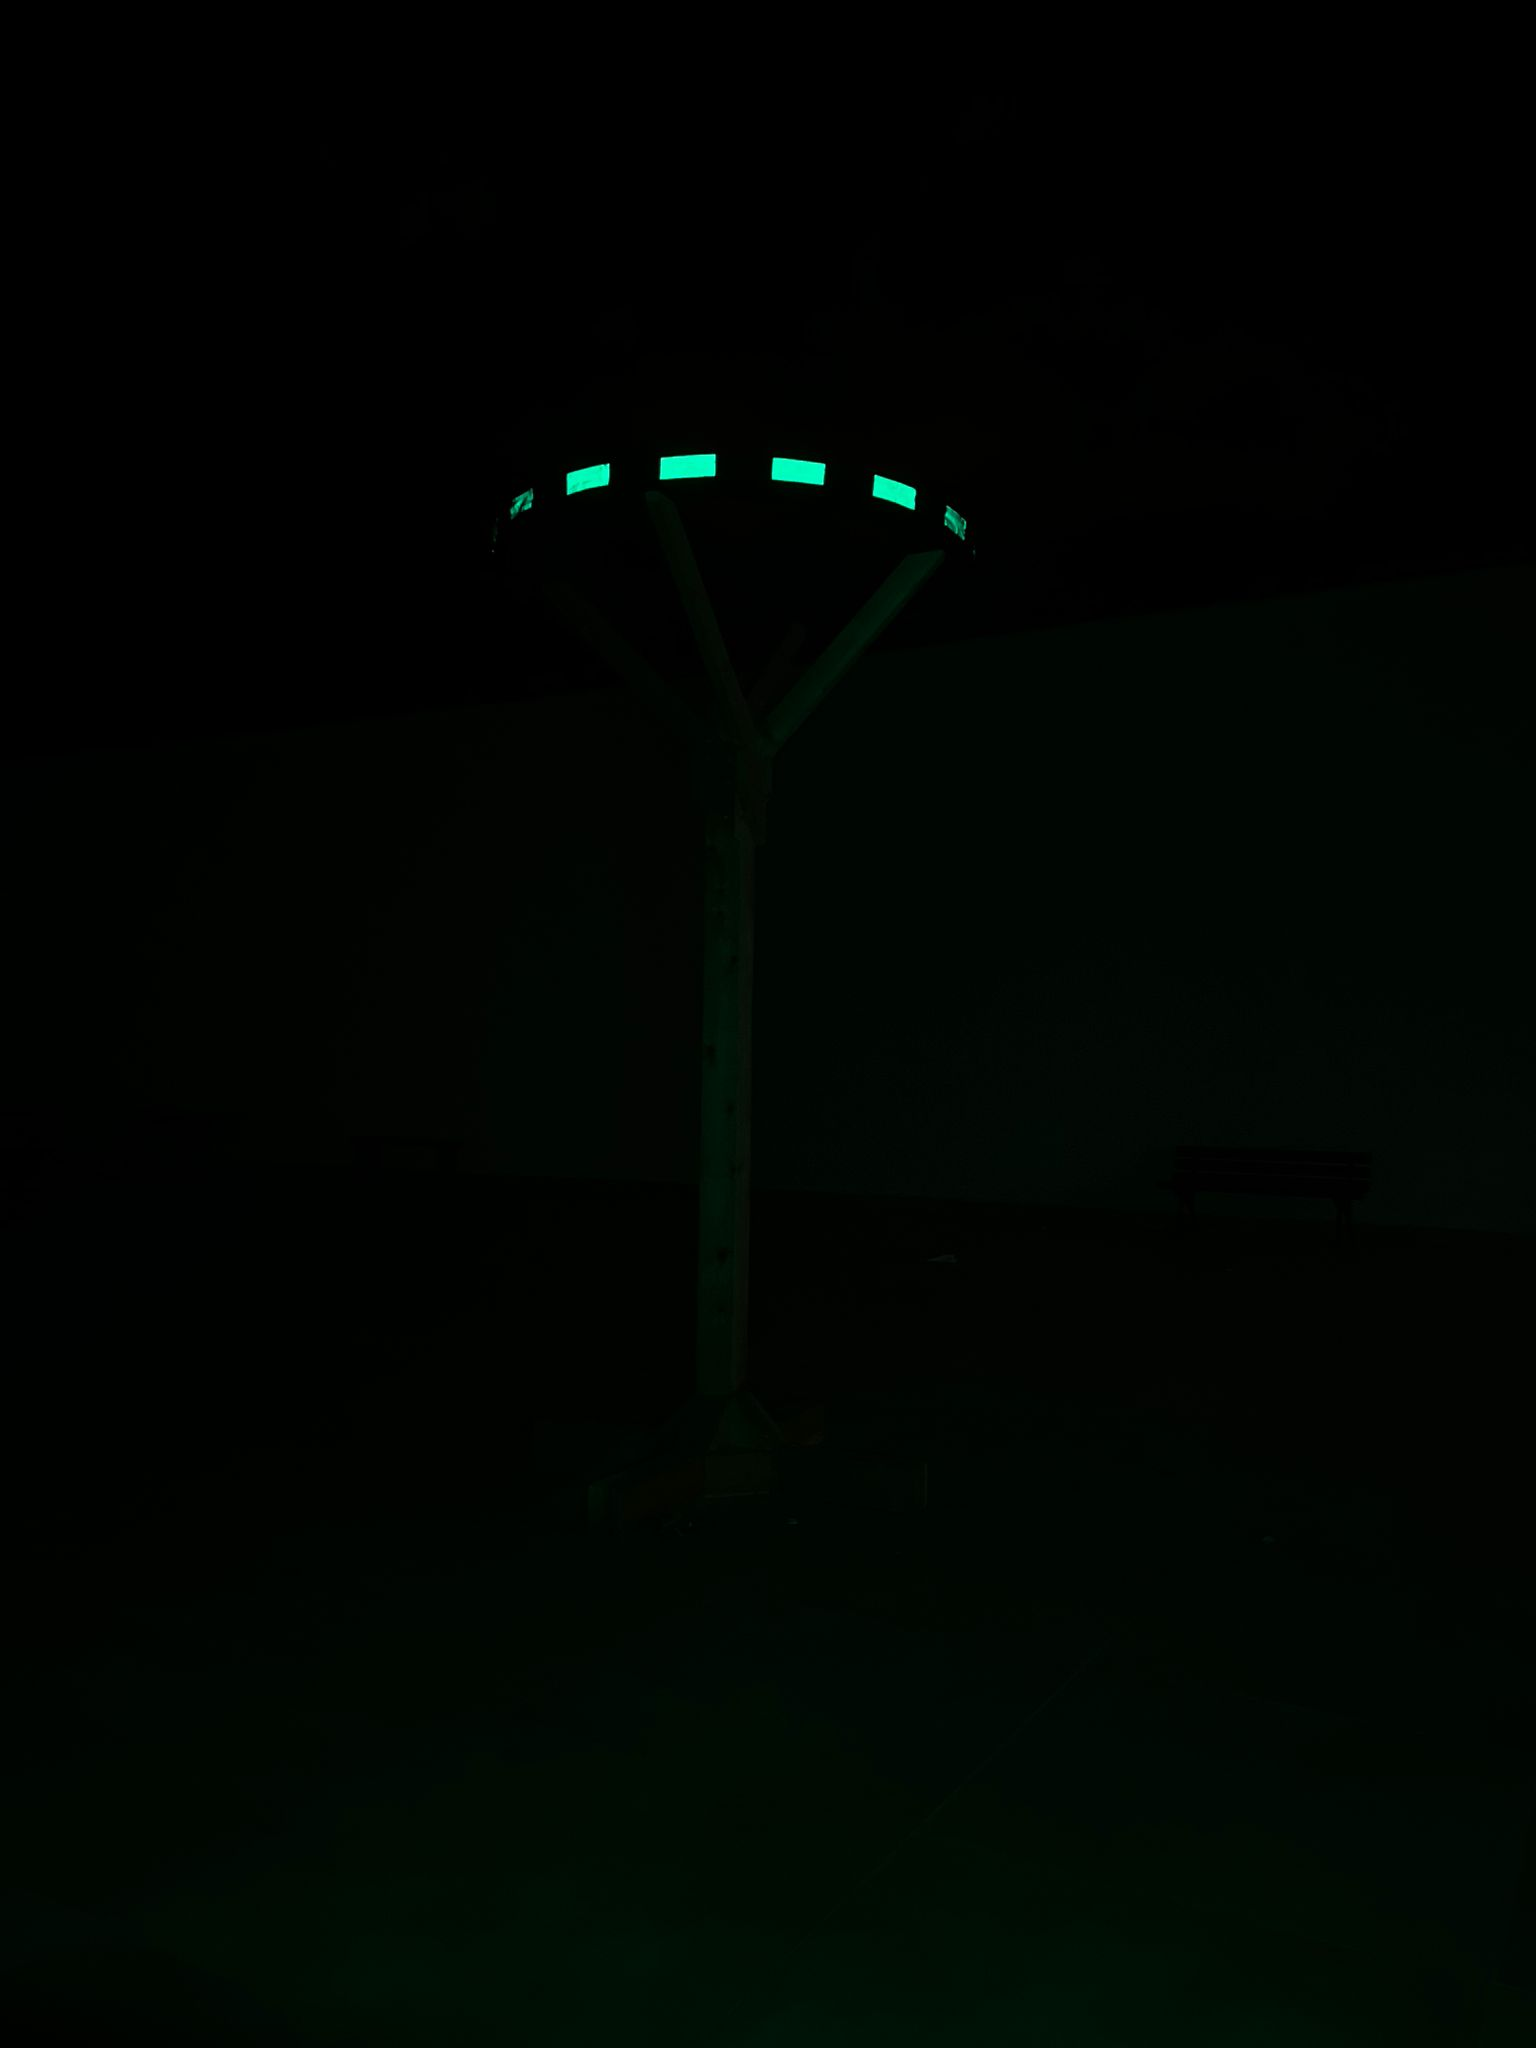hoop: (499, 439, 978, 545)
